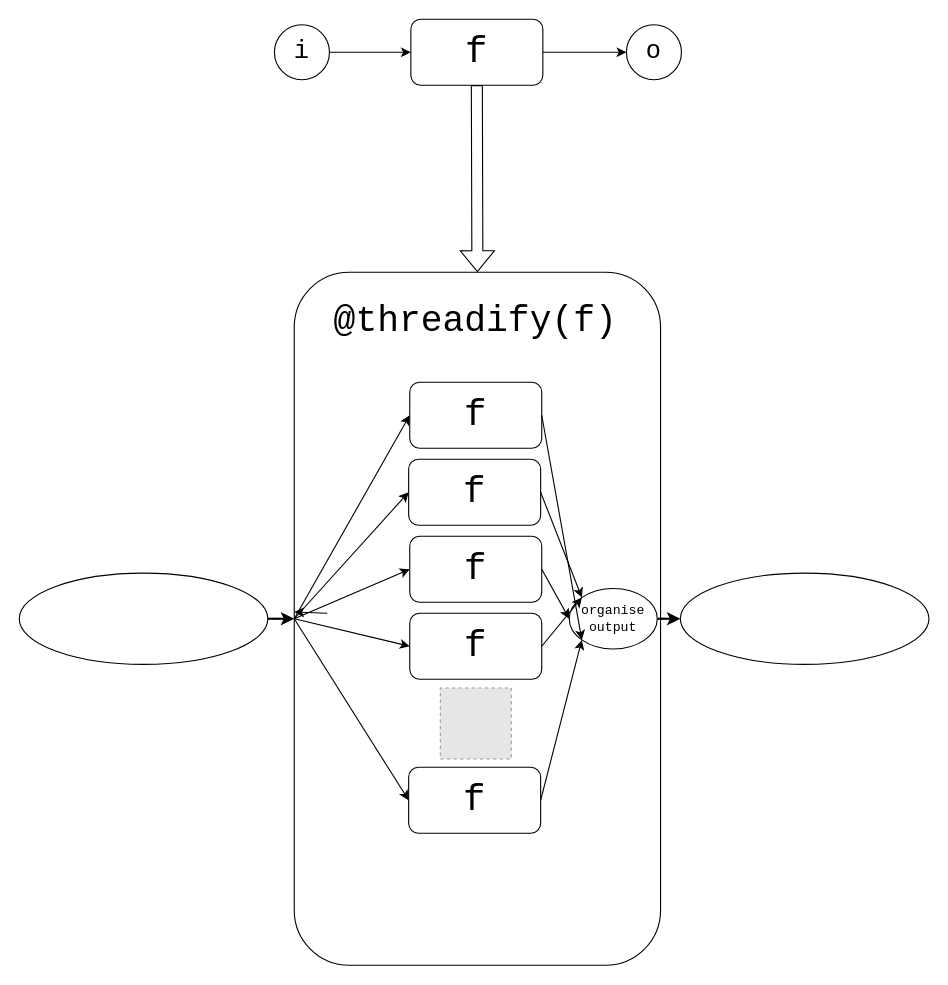
The diagram is 948 pixels wide and 985 high, and some of its shapes have lost their labels. Grey dashed boxes stand in for pictures. Each missing label, with the centre of its shape:
"[i 0 , i 1 , i 2 , i 3 , ..., i n ]" goes at pixel 143 618.
"[o 0 , o 1 , o 2 , o 3 , ..., o n ]" goes at pixel 804 618.
